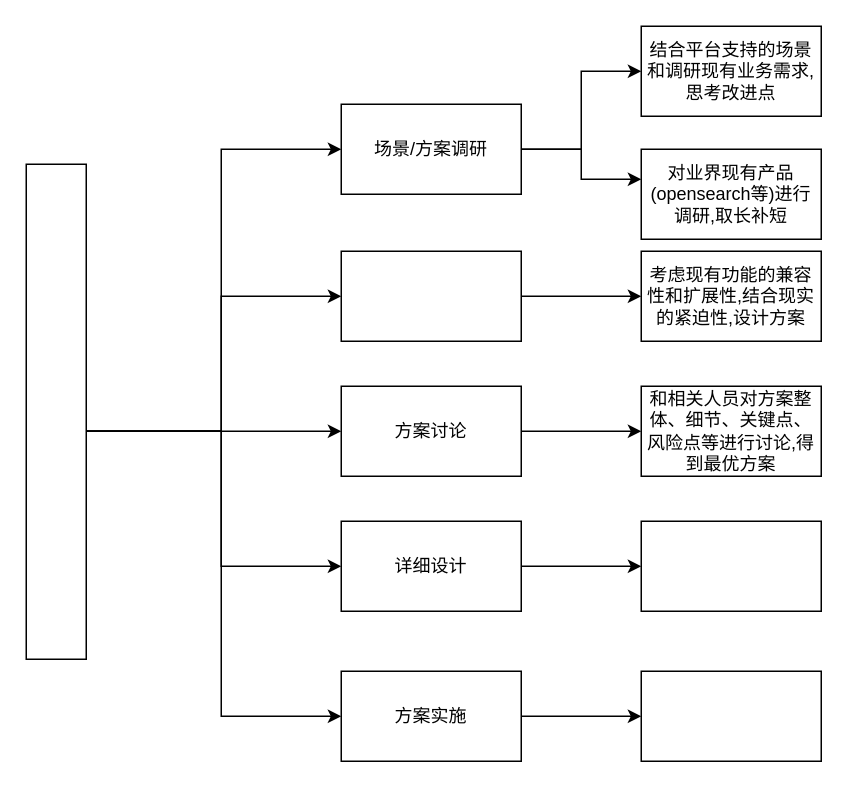
Image size: 848x788. Some labels were removed from this diagram. Each missing label, with the centre of its shape:
在方案讨论确定之后,在对方案进行详细(包括交互和实现细节): pixel 730 565
多表数据源结构类型支持: pixel 55 411
对方案进行合理规划之后,开始实施: pixel 730 715
方案设计: pixel 430 295
